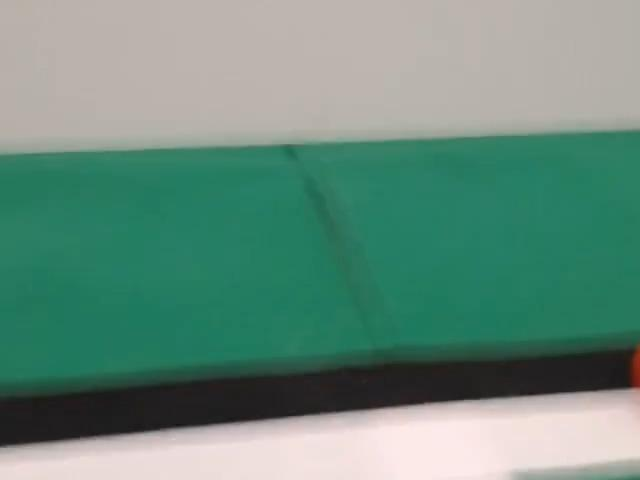Ball: (633, 345, 639, 385)
